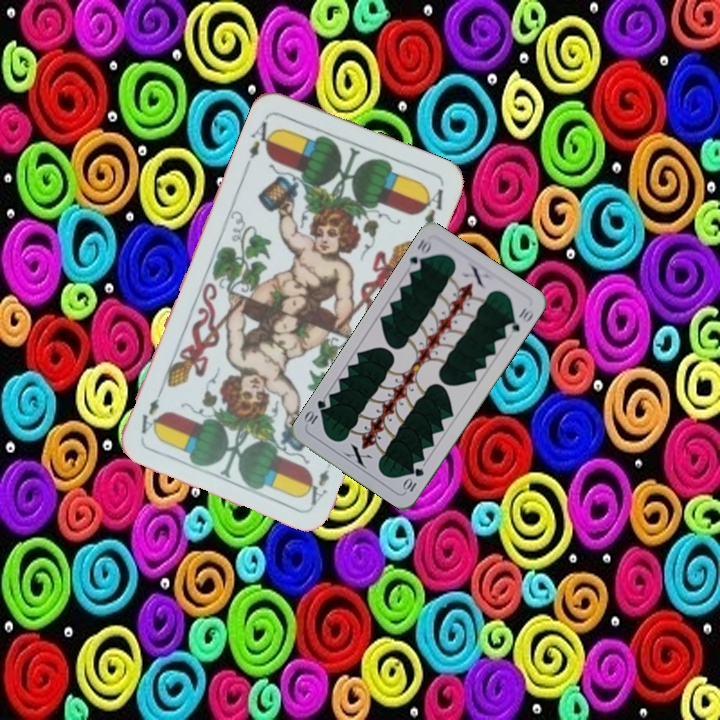EA: (301, 452, 335, 509), (241, 117, 278, 169)
G10: (404, 235, 435, 274), (399, 464, 427, 495)
